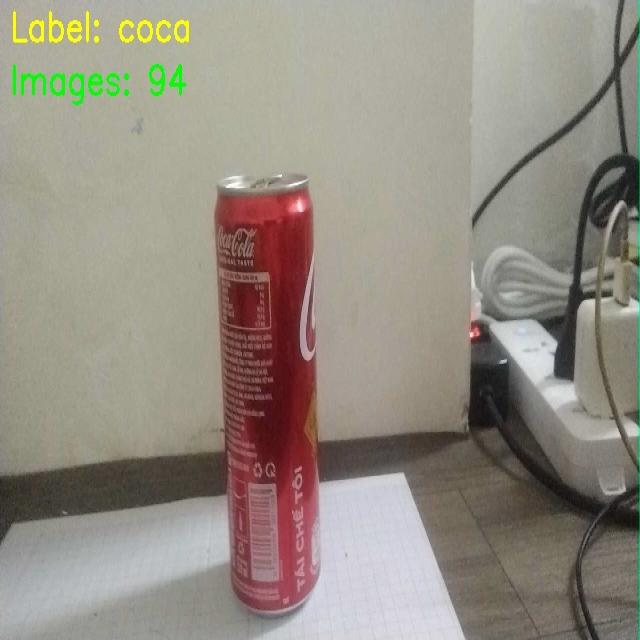Coca: (176, 152, 363, 629)
